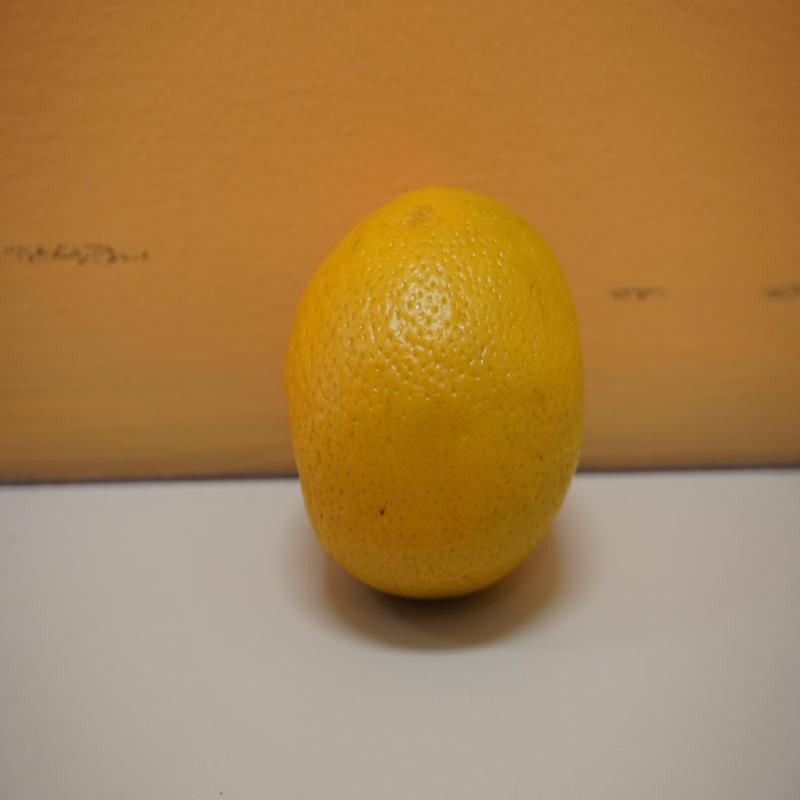Orange: (282, 187, 586, 605)
